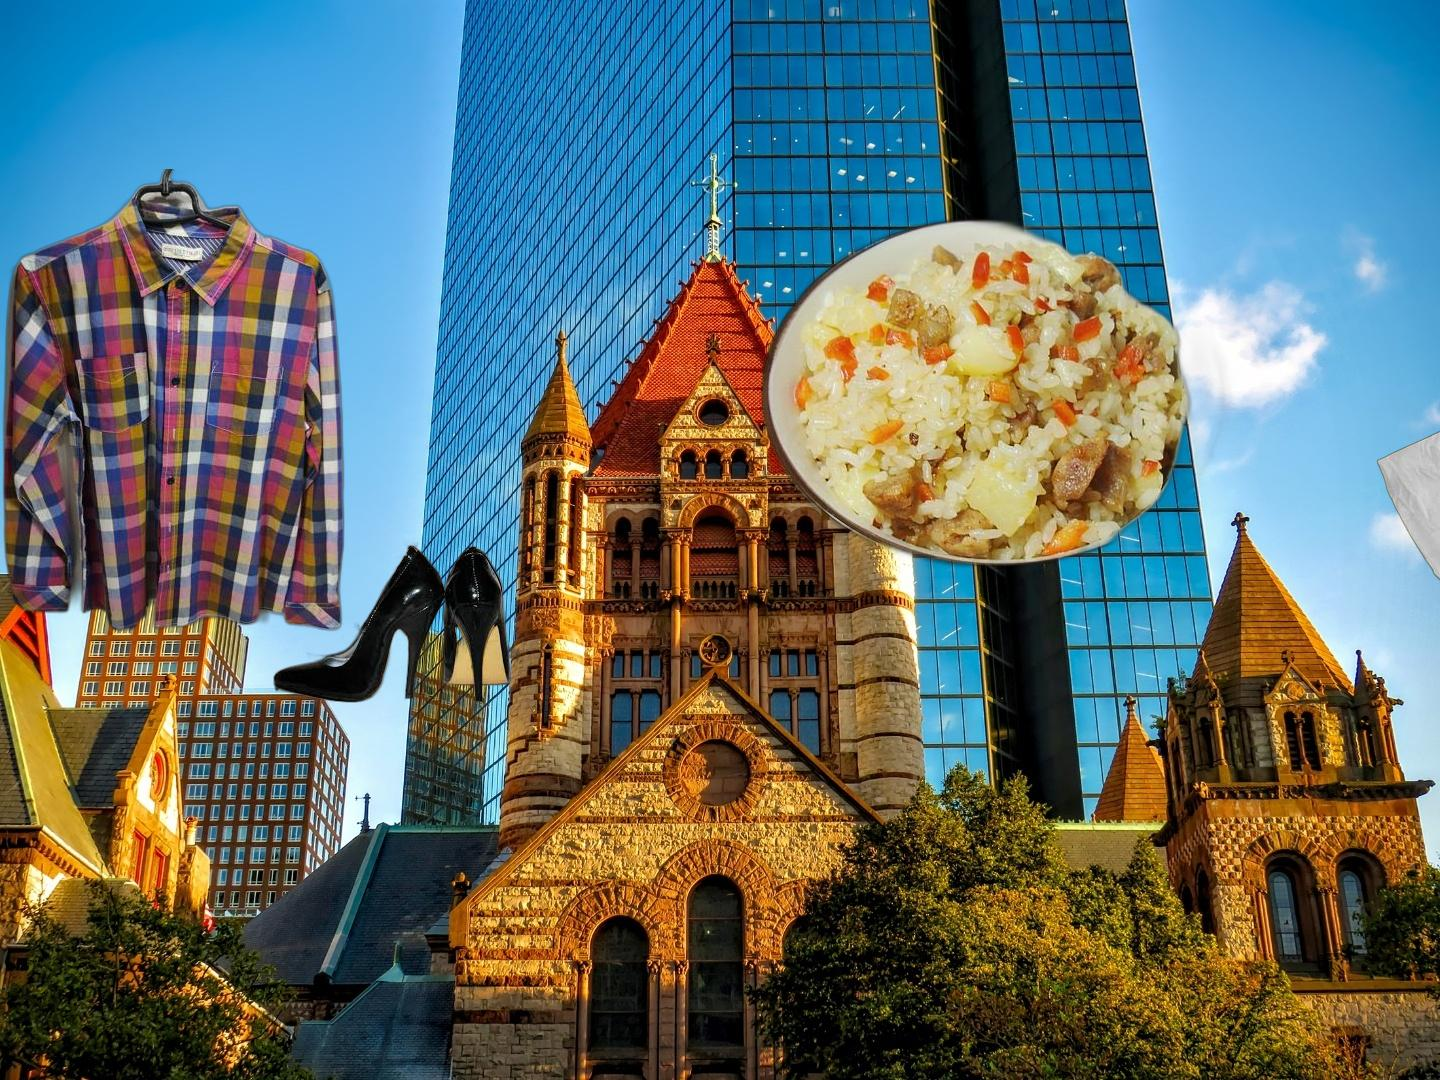biological: (757, 212, 1248, 572)
clothes: (0, 169, 348, 635)
plastic-bag: (1374, 419, 1440, 604)
shoes: (271, 540, 523, 704)
